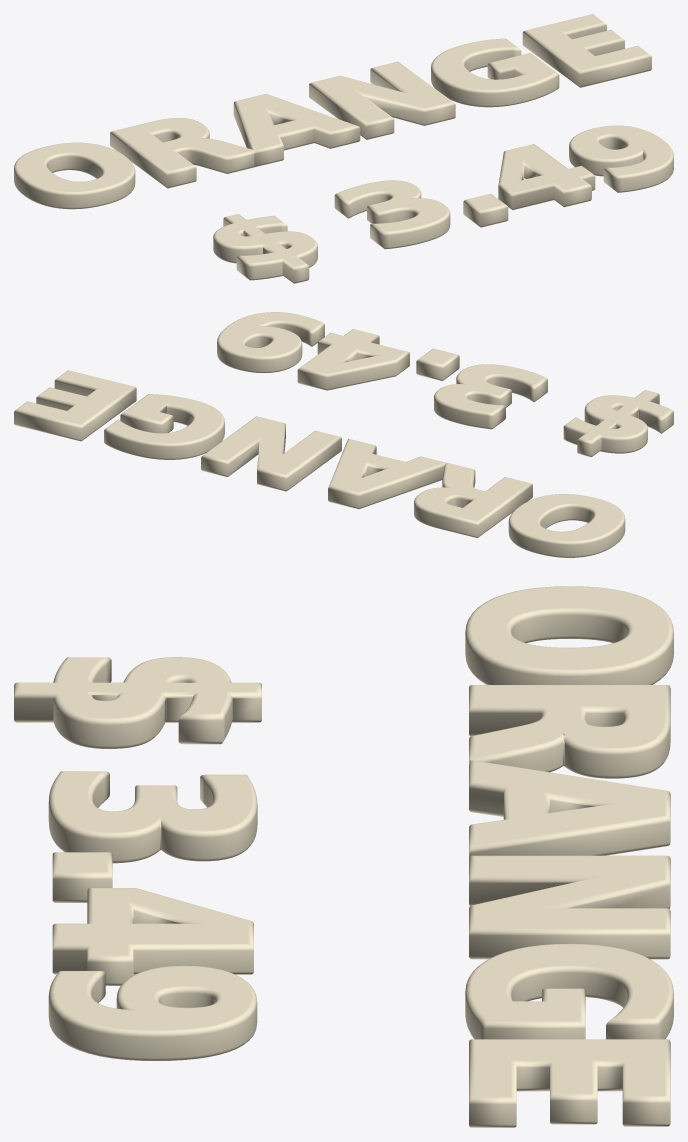
Rendered from SM_EG_Produce_price_79db21caa5.fbx.
The picture shows the model from 3 angles, top to bottom: view 1: azimuth 30°, elevation 25°; view 2: azimuth 150°, elevation 25°; view 3: azimuth 270°, elevation 25°; orthographic projection. The views are drawn at different scales.
Visible parts, largest first — view 1: SM_EG_Produce_price_79db21caa5; view 2: SM_EG_Produce_price_79db21caa5; view 3: SM_EG_Produce_price_79db21caa5.
Boxes of the visible parts, x1,y1,x2,y2 form: SM_EG_Produce_price_79db21caa5: (14, 14, 673, 283); SM_EG_Produce_price_79db21caa5: (14, 312, 673, 557); SM_EG_Produce_price_79db21caa5: (14, 586, 673, 1127).
Bounding box in the file's own units: 16.09 × 8.72 × 0.44.
